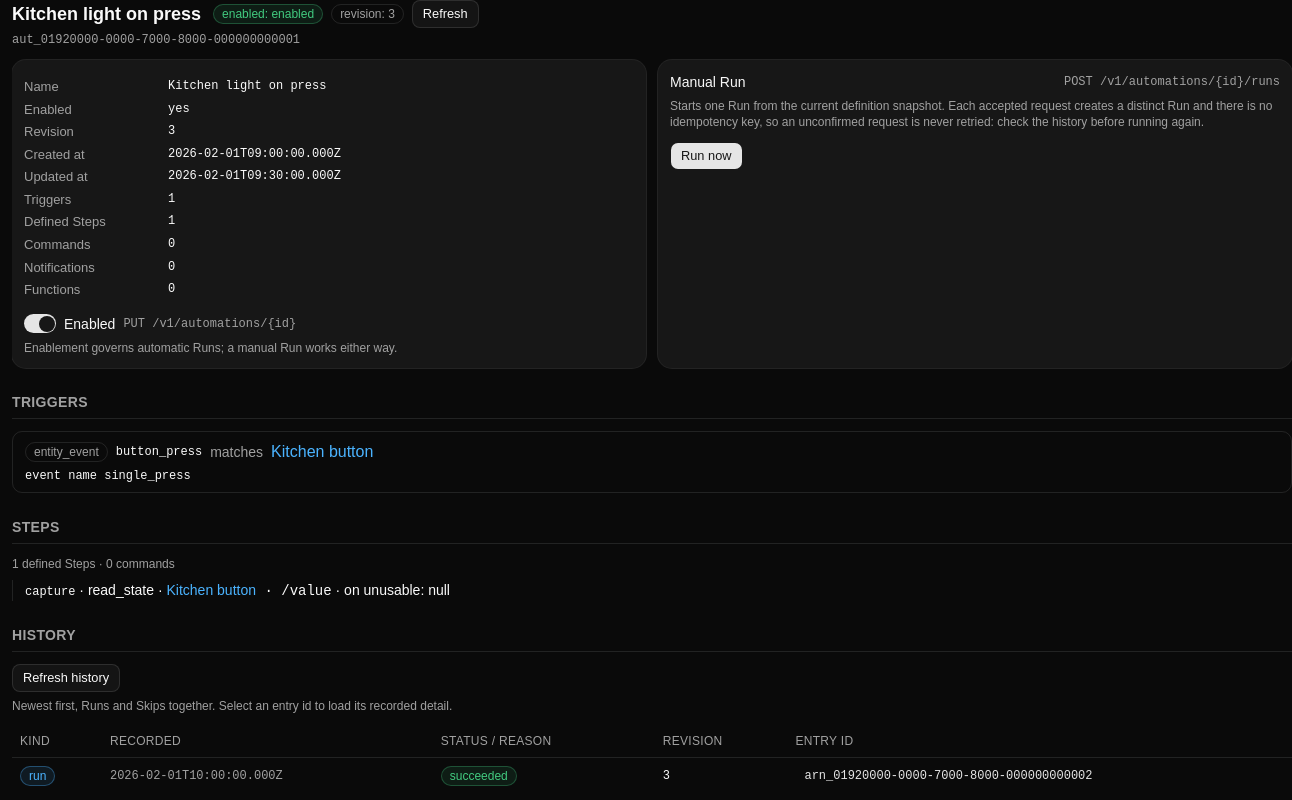
links static read_state Entities and labels legacy value evidence
Expected: the list named "Step definition outline" shows "/value", x1=281 y1=583 x2=332 y2=599
What coordinates should you click on to do the following:
click the button "arn_01920000-0000-7000-8000-000000000002"
I would click on:
 (948, 776)
Its box is x1=795 y1=764 x2=1101 y2=788.
(page scrolled)
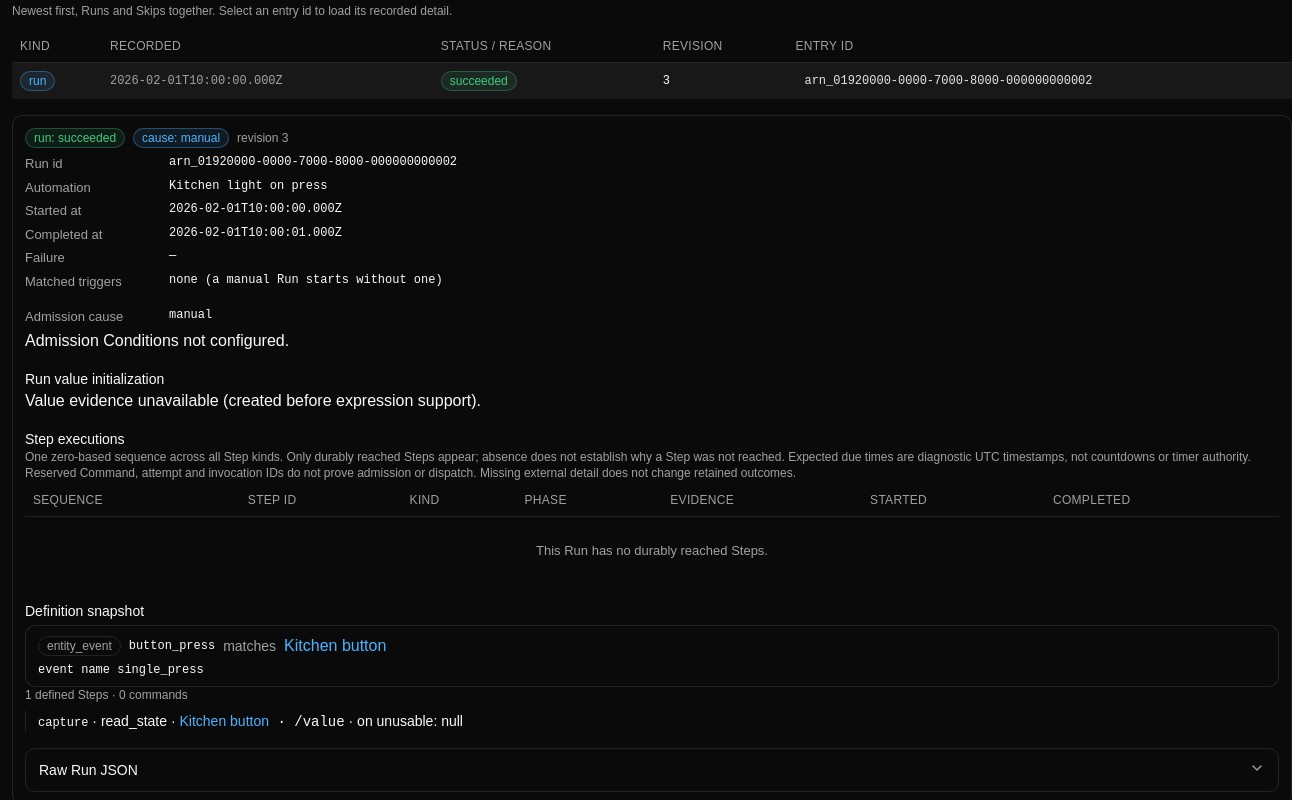
Expected: the text "Value evidence unavailable (created before expression support)." is shown, x1=25 y1=392 x2=481 y2=409
